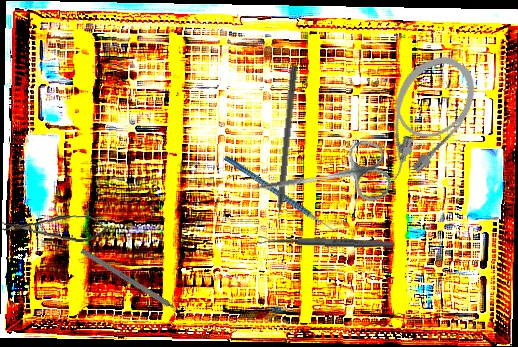Cannula: (355, 42, 490, 195)
Chopper: (223, 125, 346, 262)
Hook Surgical: (80, 247, 191, 321)
Iris Scissors: (246, 136, 394, 222)
Micro Scissor: (0, 210, 109, 244)
Pusher: (270, 64, 299, 239)
Surgical Spoon: (257, 235, 394, 249)
